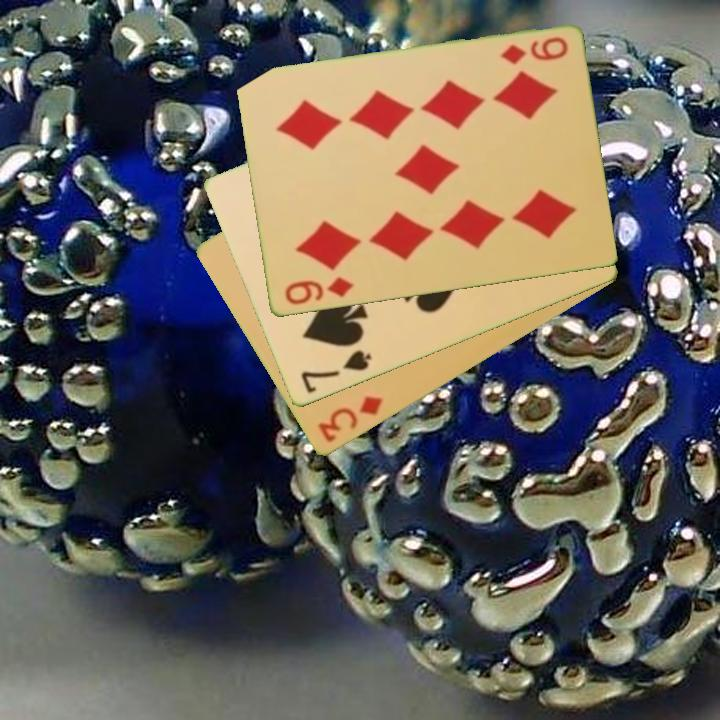3d: (314, 392, 386, 446)
7s: (297, 347, 375, 397)
9d: (281, 273, 357, 308), (496, 33, 571, 68)
